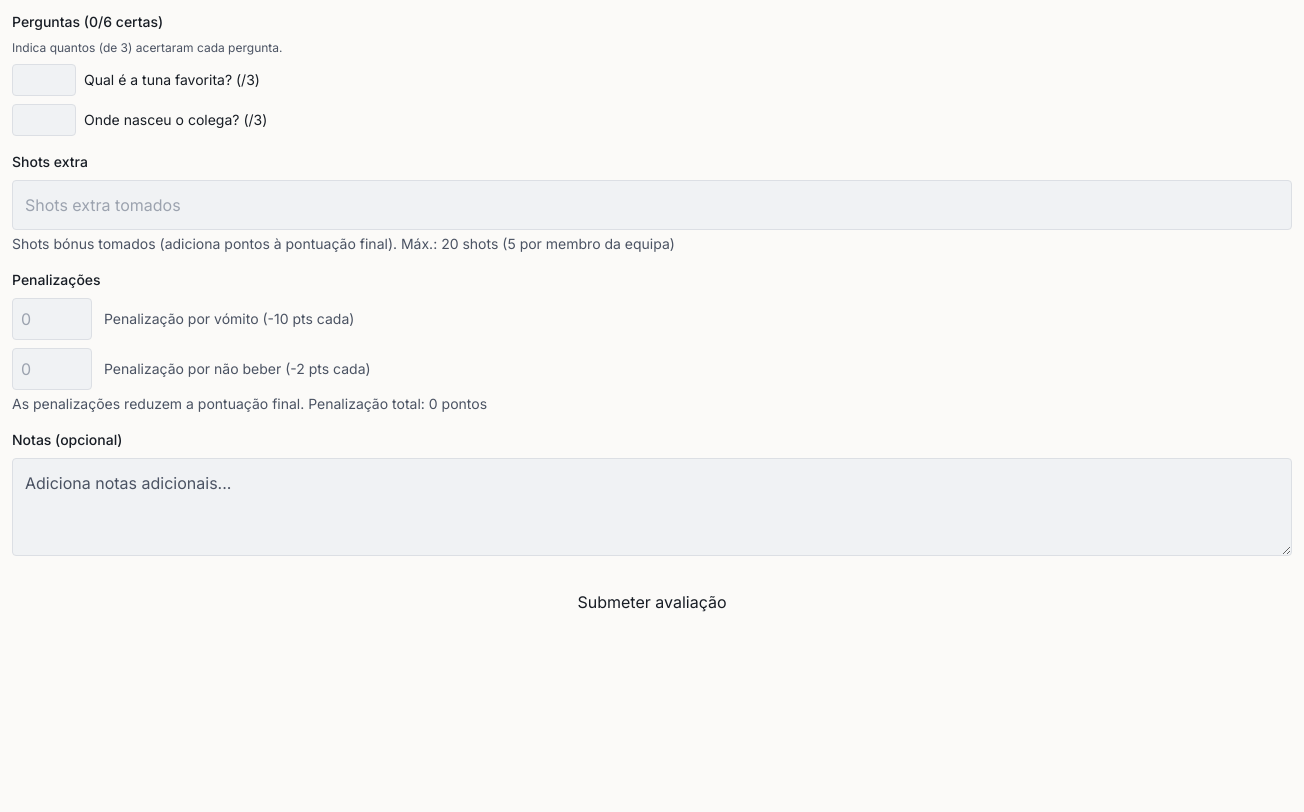
Test: ScoreBasedForm › quiz mode with multiple answers per question › clamps a count above the number of answers per question
Type "9" into the number field labelled "Qual é a tuna favorita? (/3)". click: (44, 80)
box: [12,64,76,96]
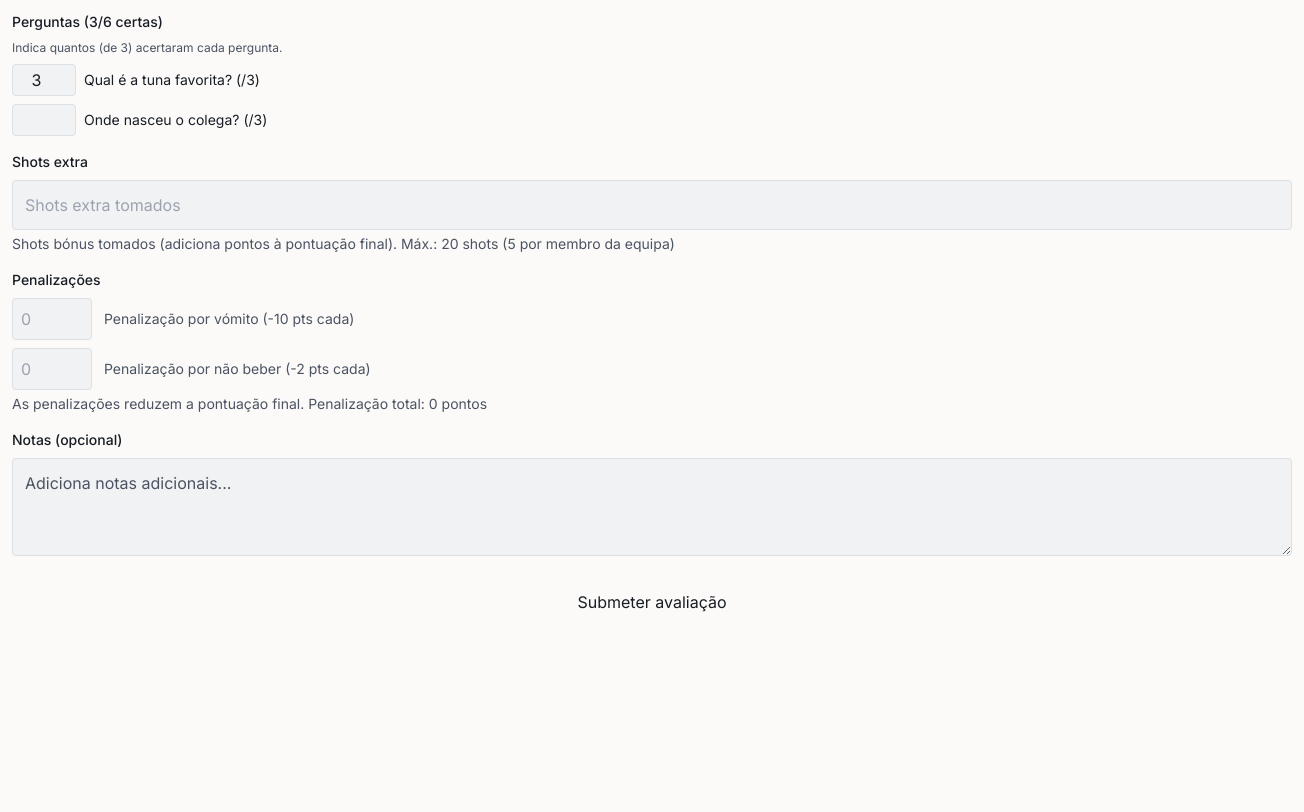
Expected: the text "Perguntas (3/6 certas)" is shown, [12,12,163,32]
